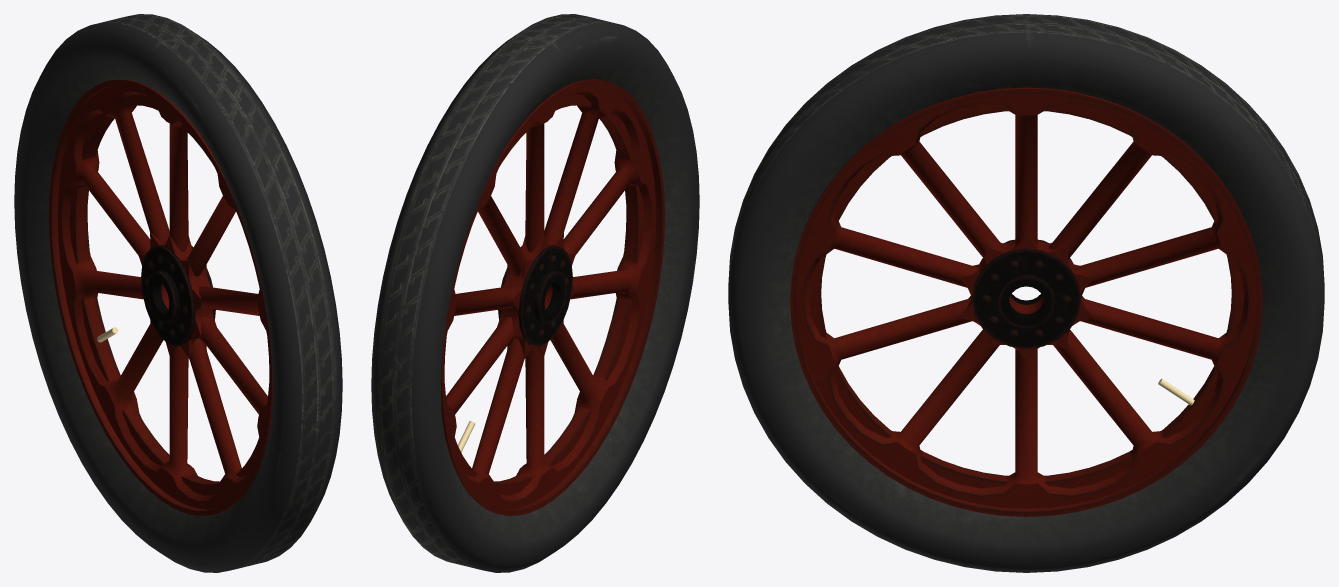
The picture shows the model from 3 angles, left to right: view 1: azimuth 30°, elevation 25°; view 2: azimuth 150°, elevation 25°; view 3: azimuth 270°, elevation 25°; orthographic projection. The views are drawn at different scales.
Parts seen in each view (by area): view 1: Artillery Wheel 1; view 2: Artillery Wheel 1; view 3: Artillery Wheel 1.
Boxes of the visible parts, box(x1,y1,x2,y2) form: Artillery Wheel 1: box(14, 14, 342, 572); Artillery Wheel 1: box(371, 14, 699, 572); Artillery Wheel 1: box(728, 14, 1324, 572).
Bounding box in the file's own units: 0.0984 × 0.8318 × 0.8318.
1 material, 1 textured.
